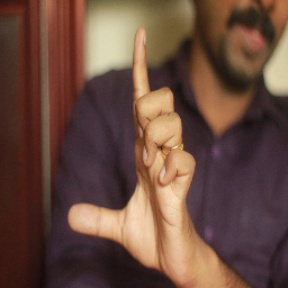L: (64, 26, 196, 270)
